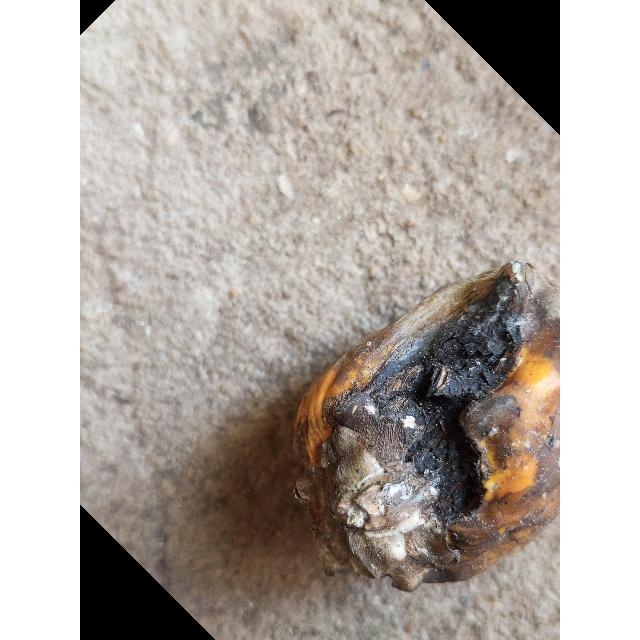damaged: (294, 261, 560, 591)
